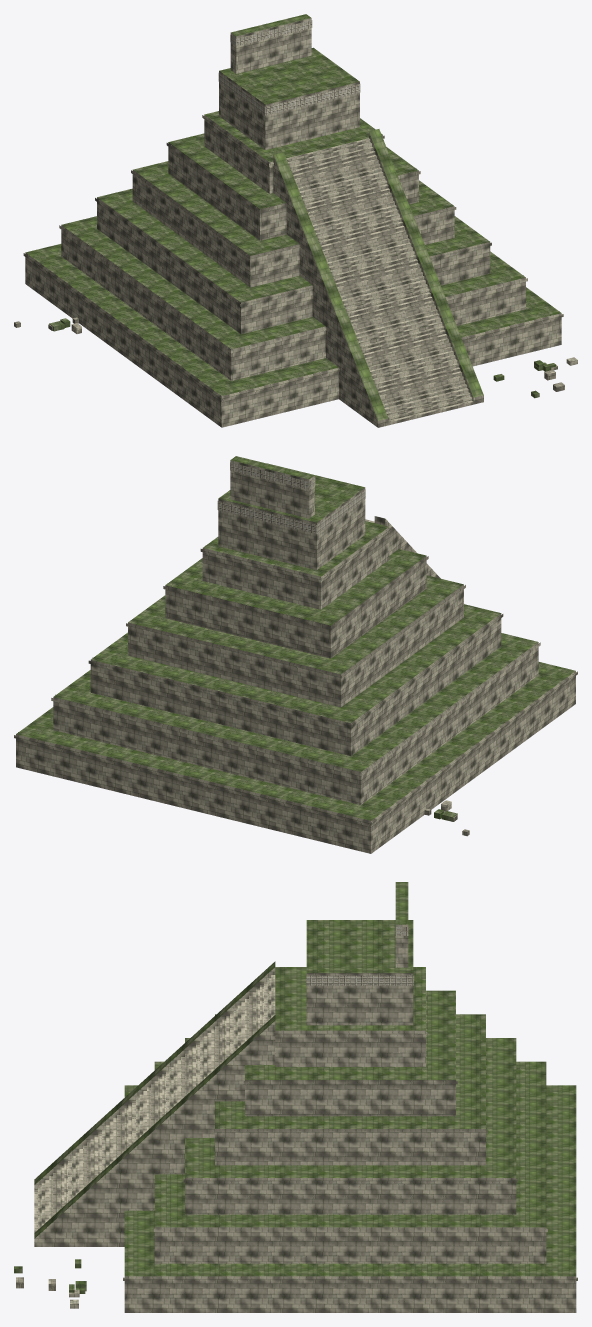
Rendered from ruin-pyramid.zfix-v9.lod1.glb.
3 views of the same model, one above another, from view 1: azimuth 30°, elevation 25°; view 2: azimuth 150°, elevation 25°; view 3: azimuth 270°, elevation 25° (orthographic). The views are drawn at different scales.
Visible parts, largest first — view 1: ruin-pyramid; view 2: ruin-pyramid; view 3: ruin-pyramid.
Part boxes in pixels (x1,y1,x2,y2): ruin-pyramid: (14, 14, 577, 427); ruin-pyramid: (14, 456, 577, 853); ruin-pyramid: (14, 882, 577, 1312).
Size of the model in its own units: 41.61 by 27.6 by 44.93.
Materials: 3 (3 with a texture image).
